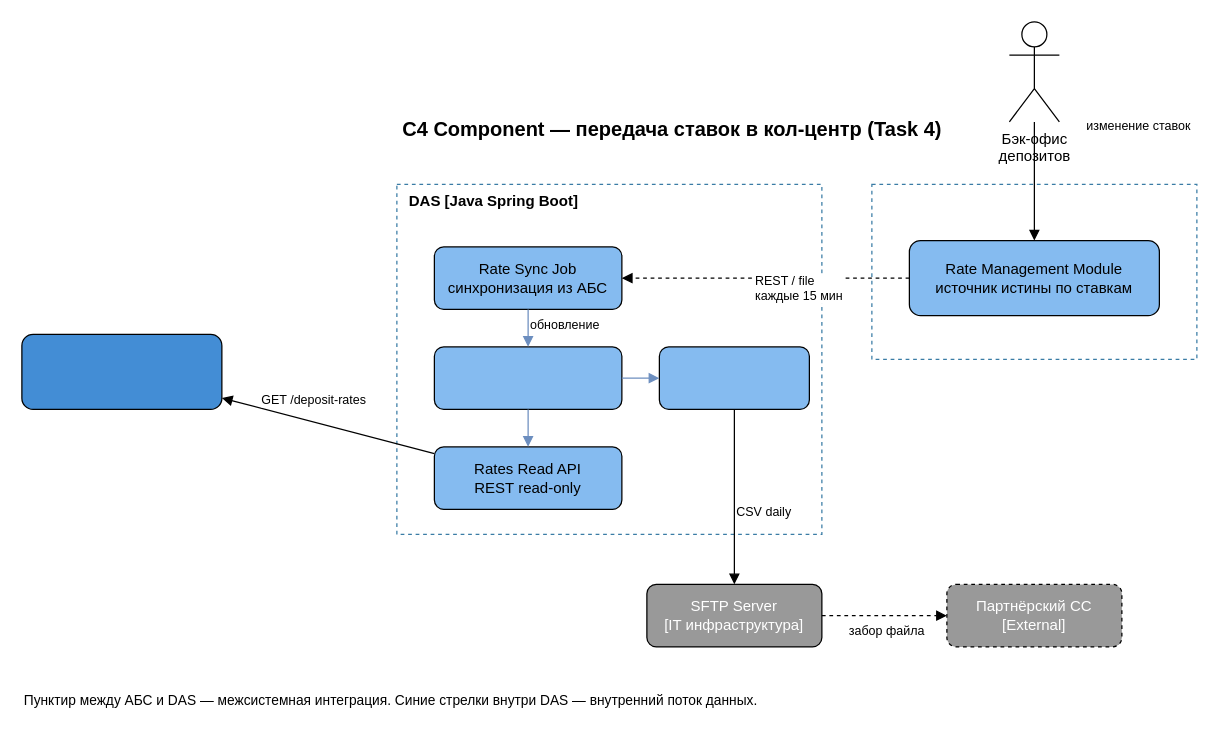
Image size: 1219x744. Some labels were removed from this diagram. The shapes that lost their labels are listed below. From the top down, each one's box as (x1, y1, x2, y2) in pixels, then its label:
(871, 183, 1197, 359): АБС [Delphi, Oracle]
(21, 333, 222, 409): CRM Кол-центра [Java, React]
(433, 346, 622, 409): Rates Cache кэш ставок
(658, 346, 809, 409): Rate Export Job CSV по расписанию
